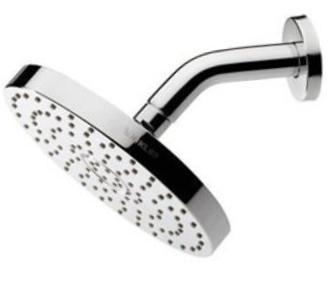Ducha: (0, 0, 331, 261)
